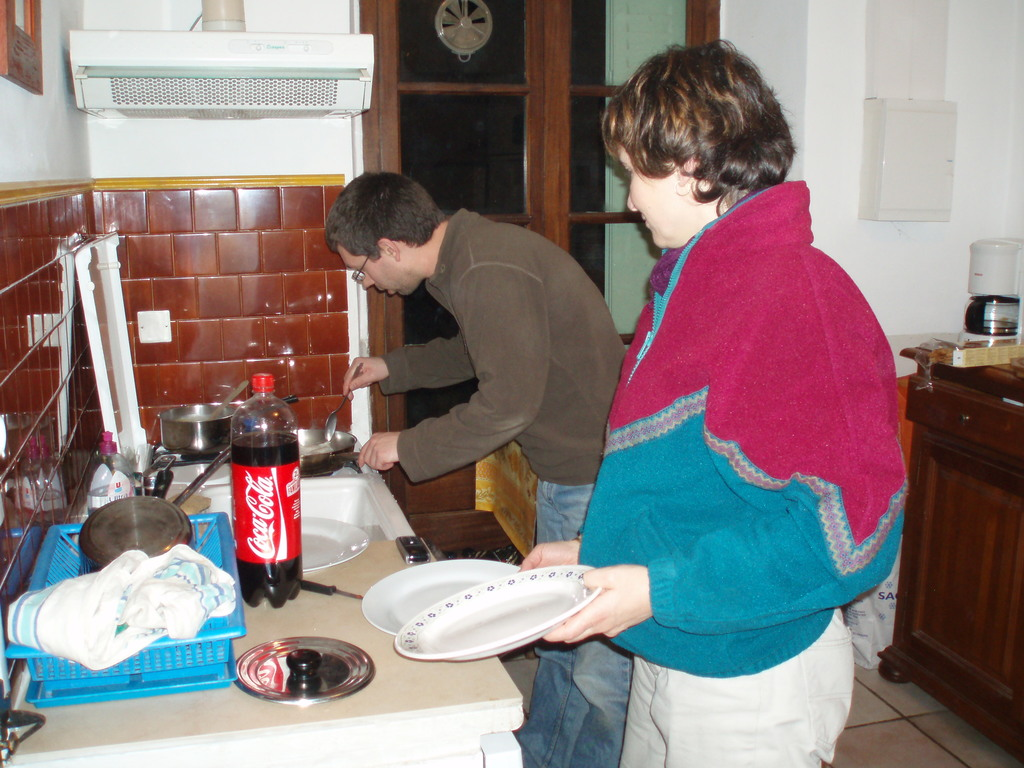plate: (360, 551, 590, 661)
